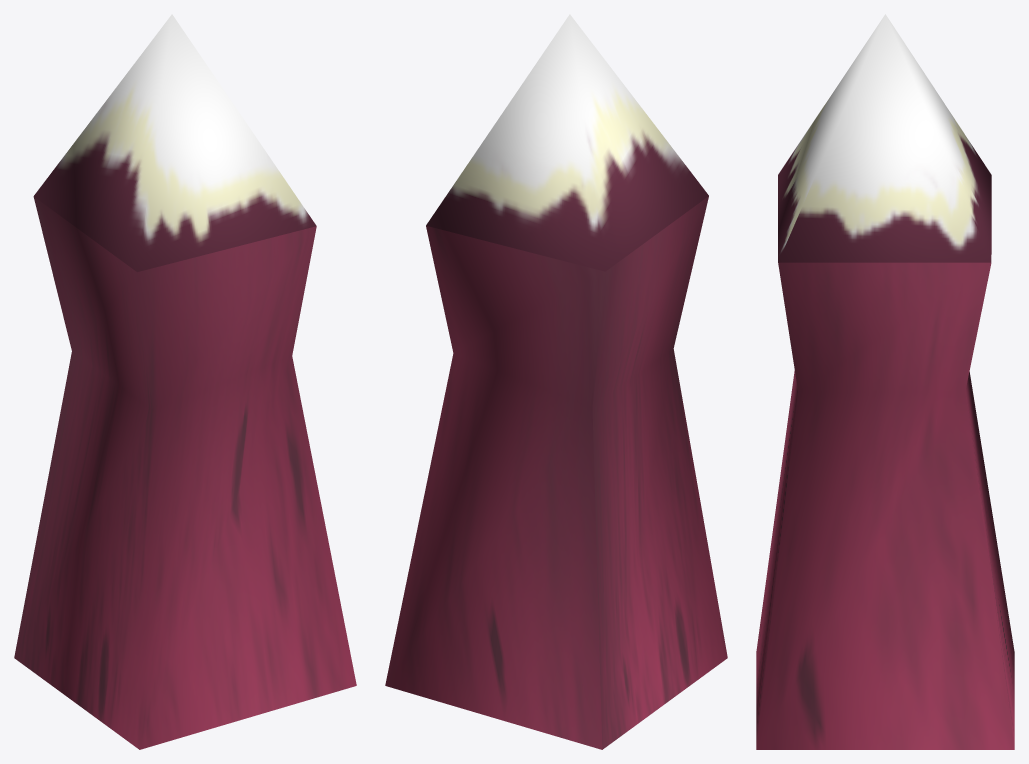
The model's file is Thorn_Stake.fbx.
3 renders of one model, left to right at view 1: azimuth 30°, elevation 25°; view 2: azimuth 150°, elevation 25°; view 3: azimuth 270°, elevation 25°, orthographic. The views are drawn at different scales.
Parts seen in each view (by area): view 1: Thorn_Thrown.002; view 2: Thorn_Thrown.002; view 3: Thorn_Thrown.002.
Boxes of the visible parts, box(x1,y1,x2,y2) form: Thorn_Thrown.002: box(14, 14, 356, 749); Thorn_Thrown.002: box(385, 14, 727, 749); Thorn_Thrown.002: box(756, 14, 1014, 749).
Size of the model in its own units: 0.8523 by 2.5 by 0.8533.
